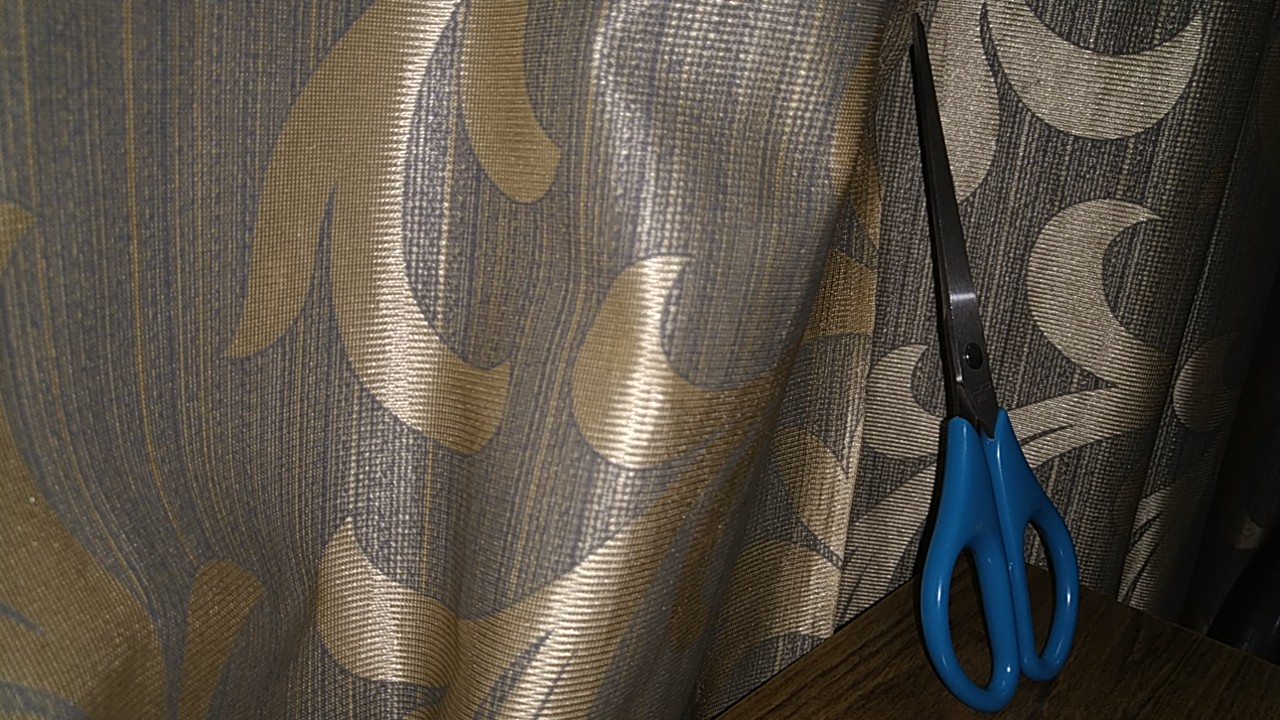scissor: (817, 6, 1121, 720)
